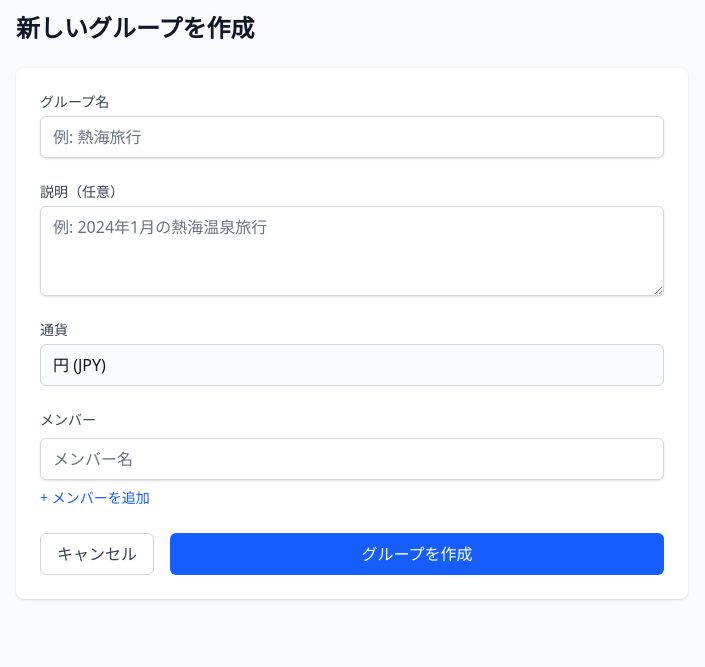
Scenario: CreateGroupPage › 「削除」クリック時にメンバー入力フィールドを削除する
#  メンバーを追加
Click the button with aria-label "新しいメンバーを追加".
click(95, 498)  # box x1=40 y1=488 x2=150 y2=508
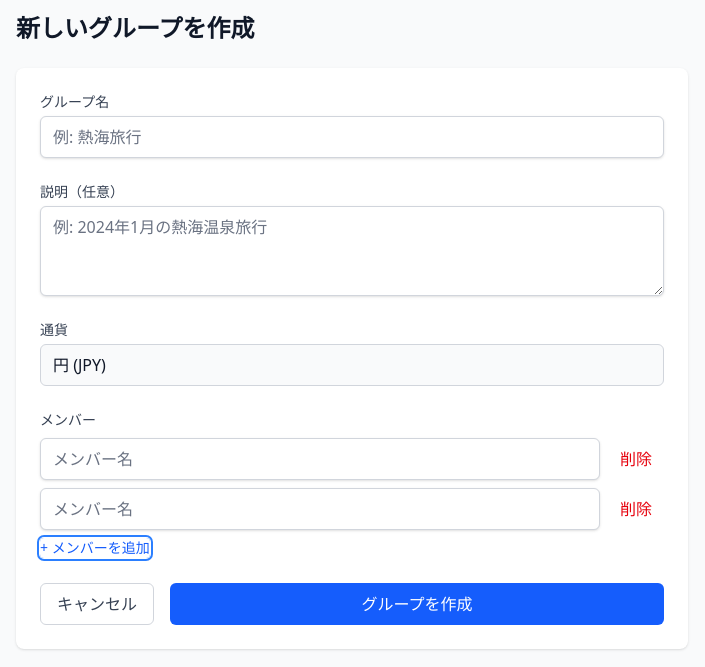
# 削除ボタンをクリック（複数ある場合は最初のものを選択）
Click the button with aria-label "メンバーを削除".
click(636, 459)  # box x1=608 y1=438 x2=664 y2=480
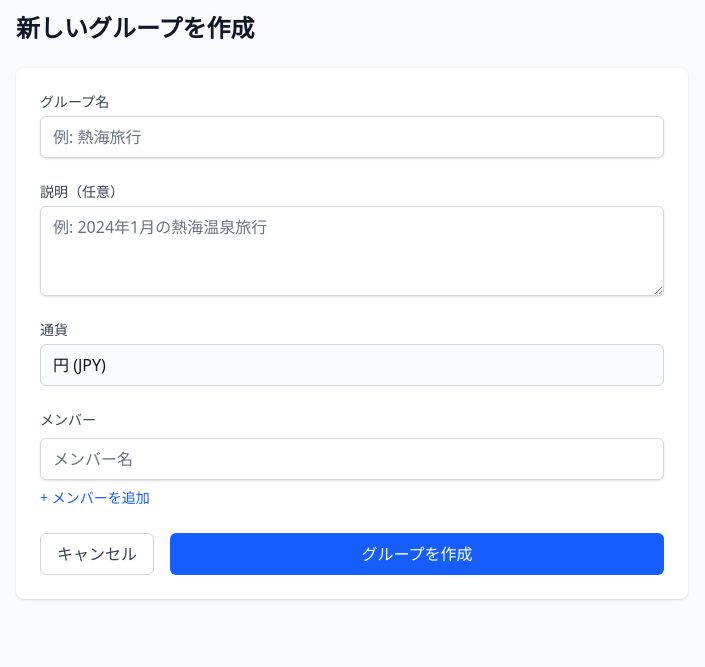
Expected: the number of fields with placeholder "メンバー名" is 1, x1=40 y1=438 x2=664 y2=480
